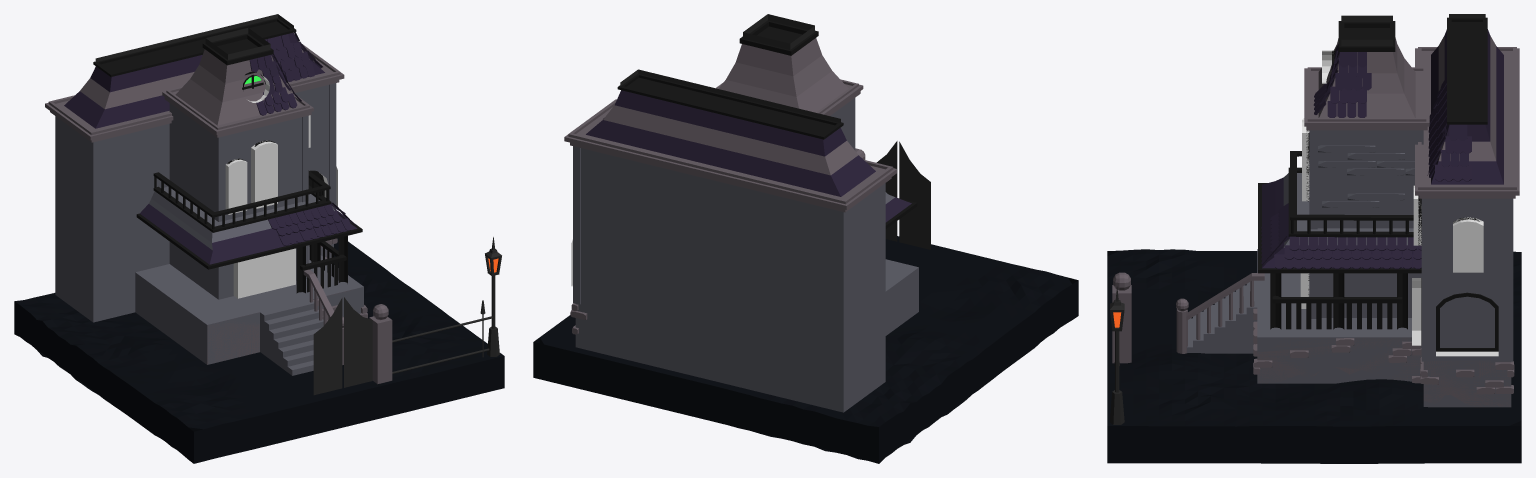
File: hauntedHause1.glb
The picture shows the model from 3 angles, left to right: view 1: azimuth 30°, elevation 25°; view 2: azimuth 150°, elevation 25°; view 3: azimuth 270°, elevation 25°; orthographic projection. The views are drawn at different scales.
Visible parts, largest first — view 1: Plane, Plane.001, Plane.003, Plane.002, Plane.004, Plane.005, Plane.006, Plane.025, Plane.214, Plane.012, Plane.023, Plane.015 (+15 smaller); view 2: Plane.001, Plane, Plane.003, Plane.004, Plane.214, Plane.035, Plane.032, Plane.036, Plane.034, Plane.033, Plane.012, Plane.002; view 3: Plane, Plane.001, Plane.003, Plane.002, Plane.004, Plane.023, Plane.006, Plane.005, Plane.022, Plane.031, Plane.009, Plane.032 (+22 smaller).
Boxes of the visible parts, <box> form: Plane: <box>14,238,504,463</box>; Plane.001: <box>55,85,363,364</box>; Plane.003: <box>45,21,344,142</box>; Plane.002: <box>169,103,301,299</box>; Plane.004: <box>162,39,313,137</box>; Plane.005: <box>140,186,357,264</box>; Plane.006: <box>260,300,323,375</box>; Plane.025: <box>233,248,295,298</box>; Plane.214: <box>313,298,342,395</box>; Plane.012: <box>344,297,372,387</box>; Plane.023: <box>207,244,363,364</box>; Plane.015: <box>251,140,277,208</box>; Plane.001: <box>575,148,918,412</box>; Plane: <box>533,236,1078,463</box>; Plane.003: <box>564,77,896,212</box>; Plane.004: <box>716,26,863,115</box>; Plane.214: <box>899,141,930,249</box>; Plane.035: <box>617,73,843,139</box>; Plane.032: <box>573,146,580,304</box>; Plane.036: <box>620,69,840,122</box>; Plane.034: <box>743,14,814,49</box>; Plane.033: <box>739,20,818,55</box>; Plane.012: <box>876,141,897,241</box>; Plane.002: <box>830,98,855,150</box>; Plane: <box>1107,249,1521,463</box>; Plane.001: <box>1257,198,1511,407</box>; Plane.003: <box>1415,22,1519,198</box>; Plane.002: <box>1317,130,1423,317</box>; Plane.004: <box>1304,28,1429,130</box>; Plane.023: <box>1257,337,1511,407</box>; Plane.006: <box>1187,280,1257,353</box>; Plane.005: <box>1262,173,1413,268</box>; Plane.022: <box>1453,217,1483,272</box>; Plane.031: <box>1421,198,1430,361</box>; Plane.009: <box>1286,303,1392,329</box>; Plane.032: <box>1505,198,1513,361</box>.
Size of what is drawn, in the model's own units: 8 by 7.52 by 8.
